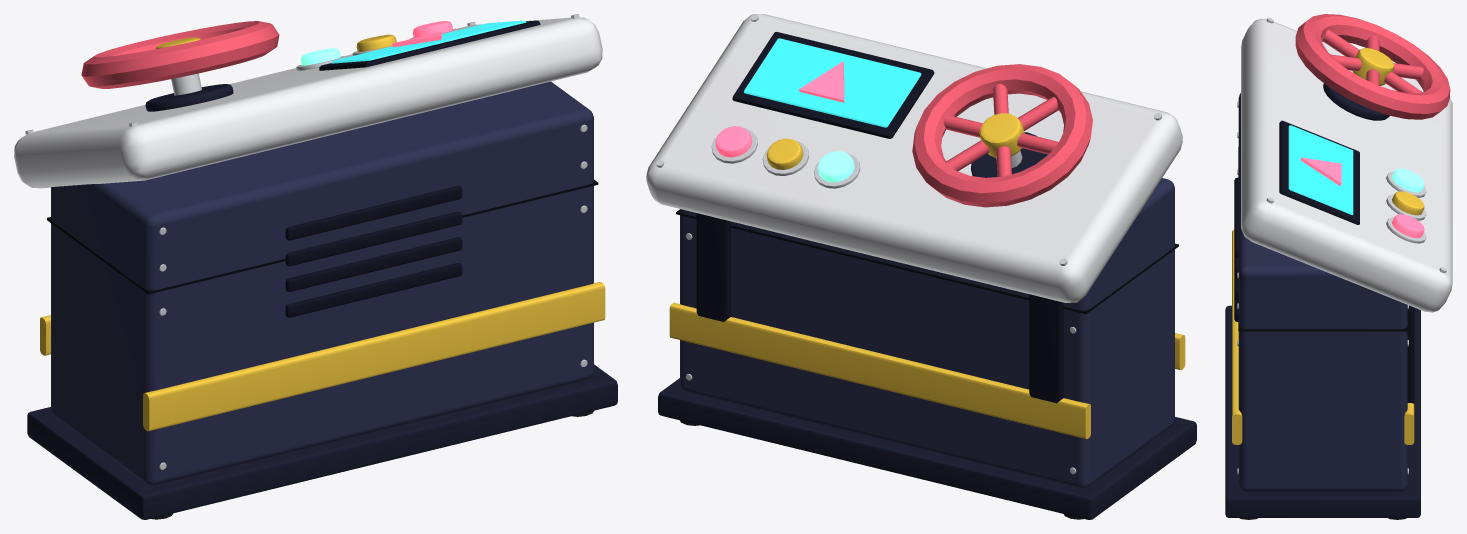
Rendered from reactor_panel.glb.
3 views of the same model, side by side, from view 1: azimuth 30°, elevation 25°; view 2: azimuth 150°, elevation 25°; view 3: azimuth 270°, elevation 25° (orthographic). The views are drawn at different scales.
Parts seen in each view (by area): view 1: Body, Wheel; view 2: Body, Wheel; view 3: Body, Wheel.
Boxes of the visible parts, x1,y1,x2,y2 form: Body: (14,14,617,519); Wheel: (81,21,279,88); Body: (646,14,1196,519); Wheel: (912,64,1092,207); Body: (1225,17,1452,519); Wheel: (1295,14,1450,119).
Bounding box in the file's own units: 1.36 × 1.16 × 0.6737.
